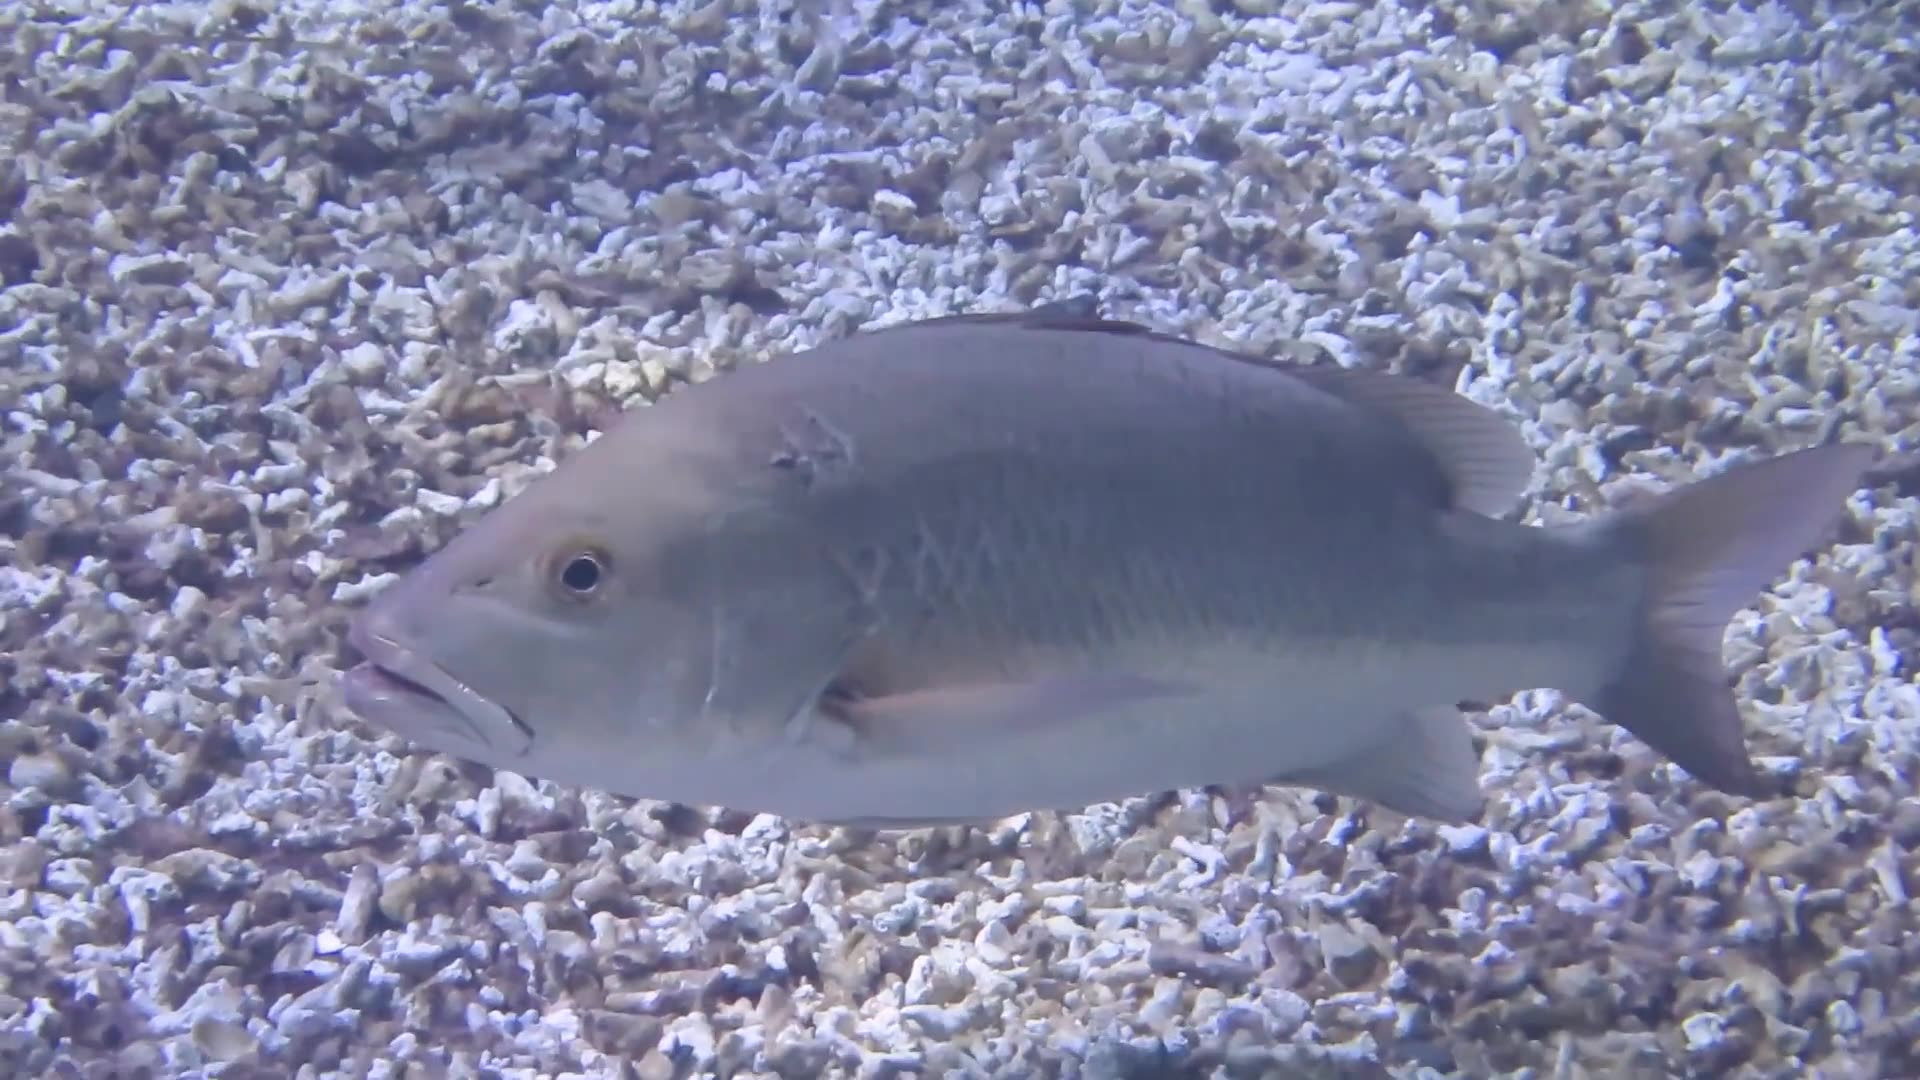Lutjanus argentimaculatus: (332, 301, 1822, 829)
